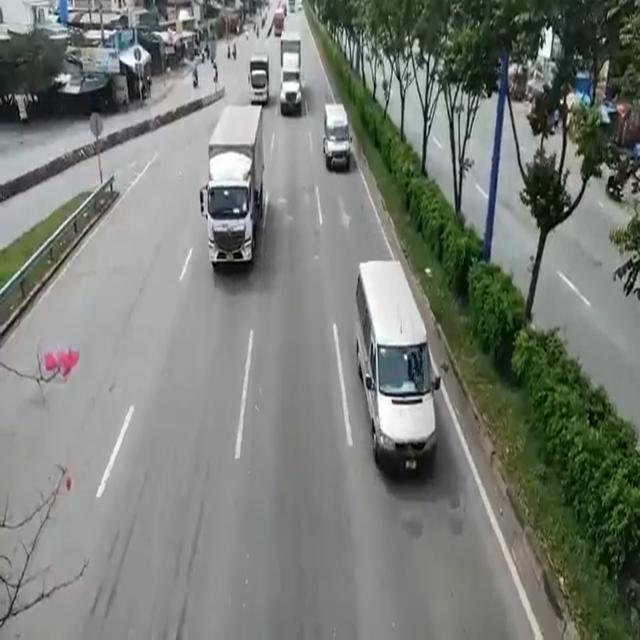car: (354, 268, 431, 470), (323, 106, 348, 172)
truck: (210, 107, 256, 277), (280, 34, 302, 114)
